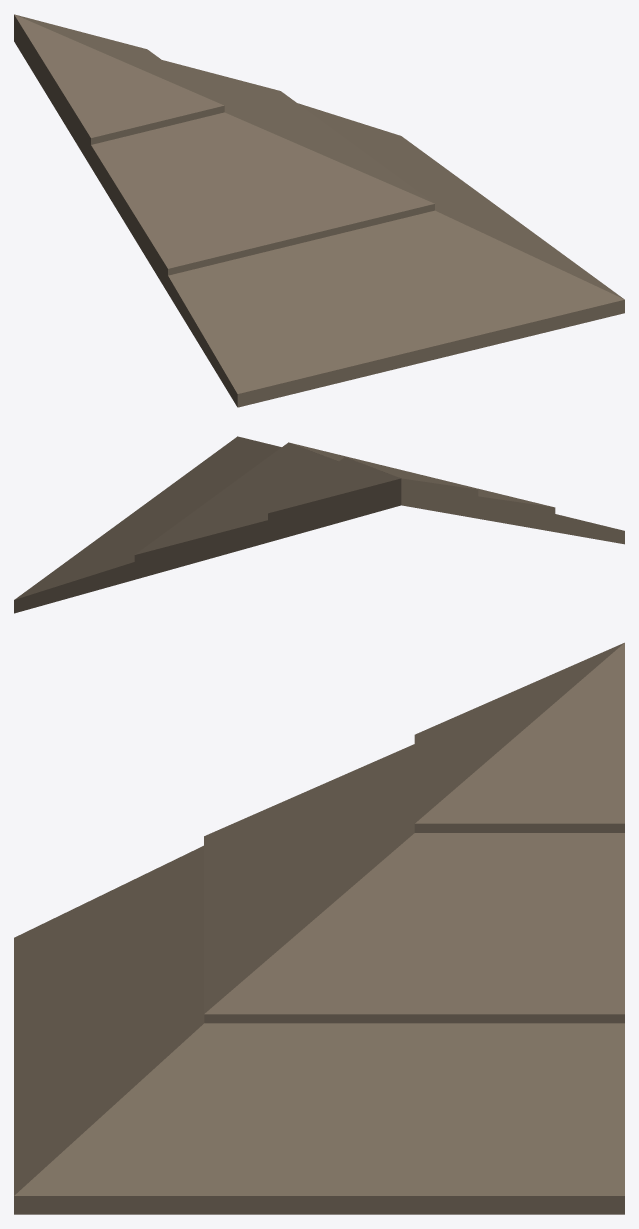
File: steampunk_roof_metal_corner.fbx
3 renders of one model, top to bottom at view 1: azimuth 30°, elevation 25°; view 2: azimuth 150°, elevation 25°; view 3: azimuth 270°, elevation 25°, orthographic. The views are drawn at different scales.
Visible parts, largest first — view 1: Cube.049; view 2: Cube.049; view 3: Cube.049.
Part boxes in pixels (x1,y1,x2,y2): Cube.049: (14,14,624,407); Cube.049: (14,436,624,613); Cube.049: (14,642,624,1214).
Size of the model in its own units: 3 by 1.7 by 3.
